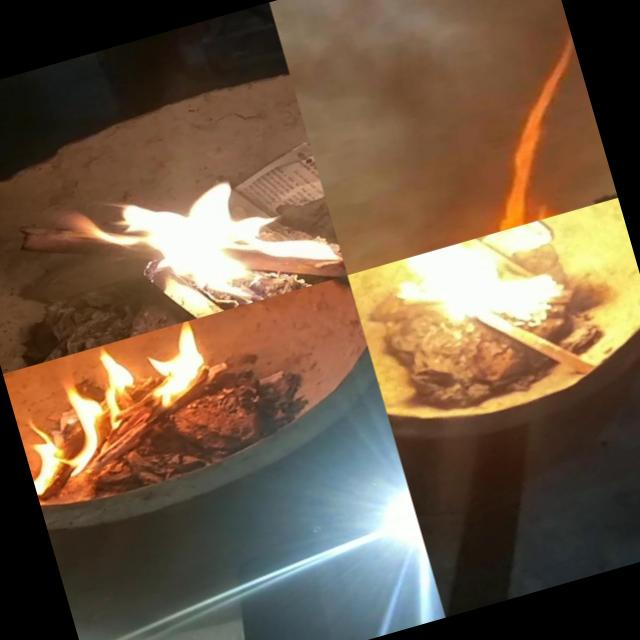fire: (55, 140, 347, 348), (2, 316, 238, 499), (394, 213, 586, 342), (474, 143, 550, 210), (522, 22, 584, 92), (498, 88, 566, 148), (490, 192, 556, 232)
smoke: (270, 0, 537, 156), (313, 114, 494, 275), (534, 108, 618, 213), (493, 0, 566, 34)
